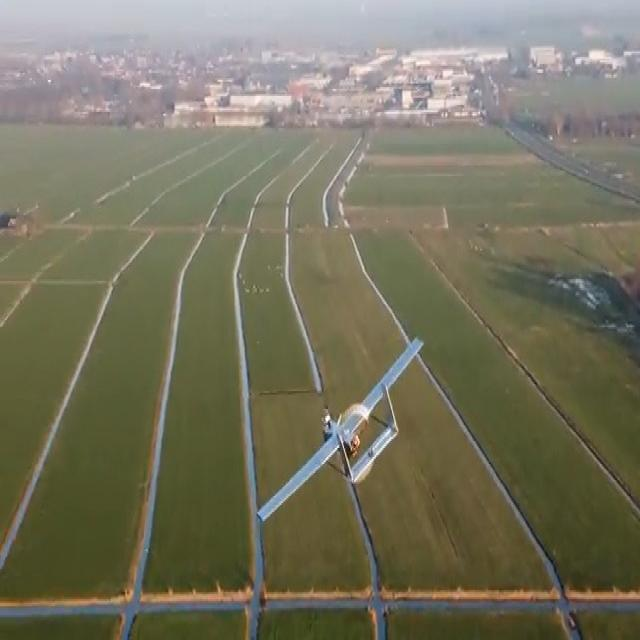iha: (253, 336, 428, 528)
